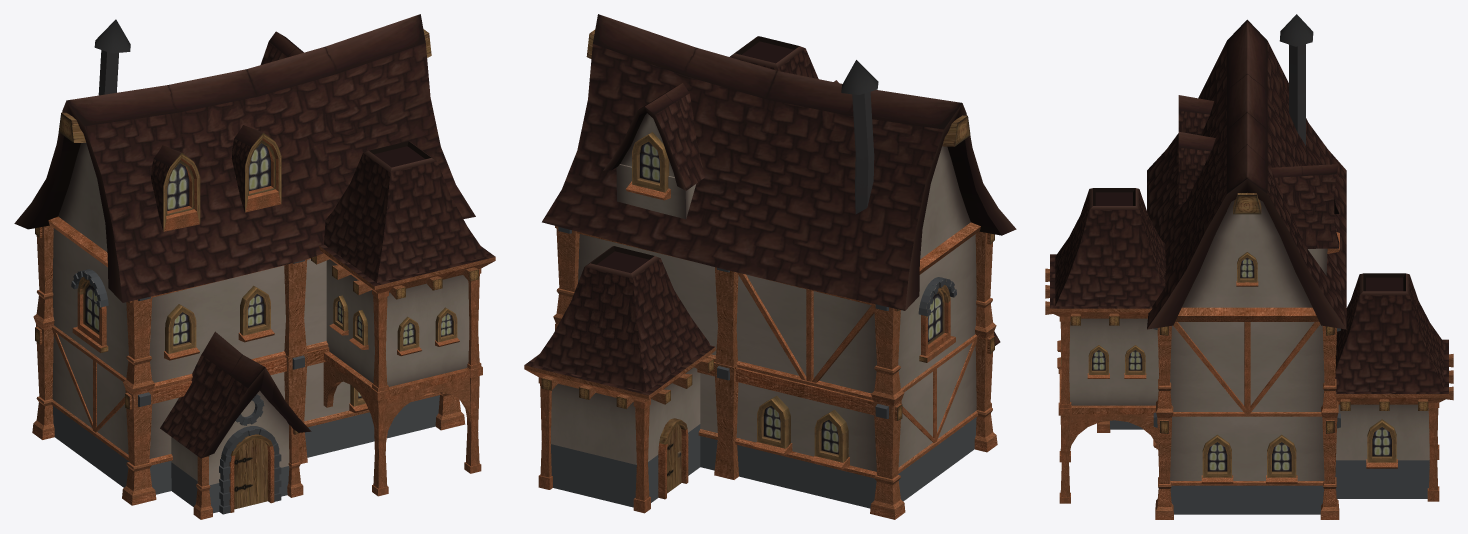
Rendered from fanasty_mod_village_building25.fbx.
3 renders of one model, left to right at view 1: azimuth 30°, elevation 25°; view 2: azimuth 150°, elevation 25°; view 3: azimuth 270°, elevation 25°, orthographic. The views are drawn at different scales.
Parts seen in each view (by area): view 1: village_building_025; view 2: village_building_025; view 3: village_building_025.
Boxes of the visible parts, x1,y1,x2,y2 form: village_building_025: (14,14,495,519); village_building_025: (524,14,1016,519); village_building_025: (1045,14,1453,519).
Bounding box in the file's own units: 12.57 × 13.96 × 13.48.
